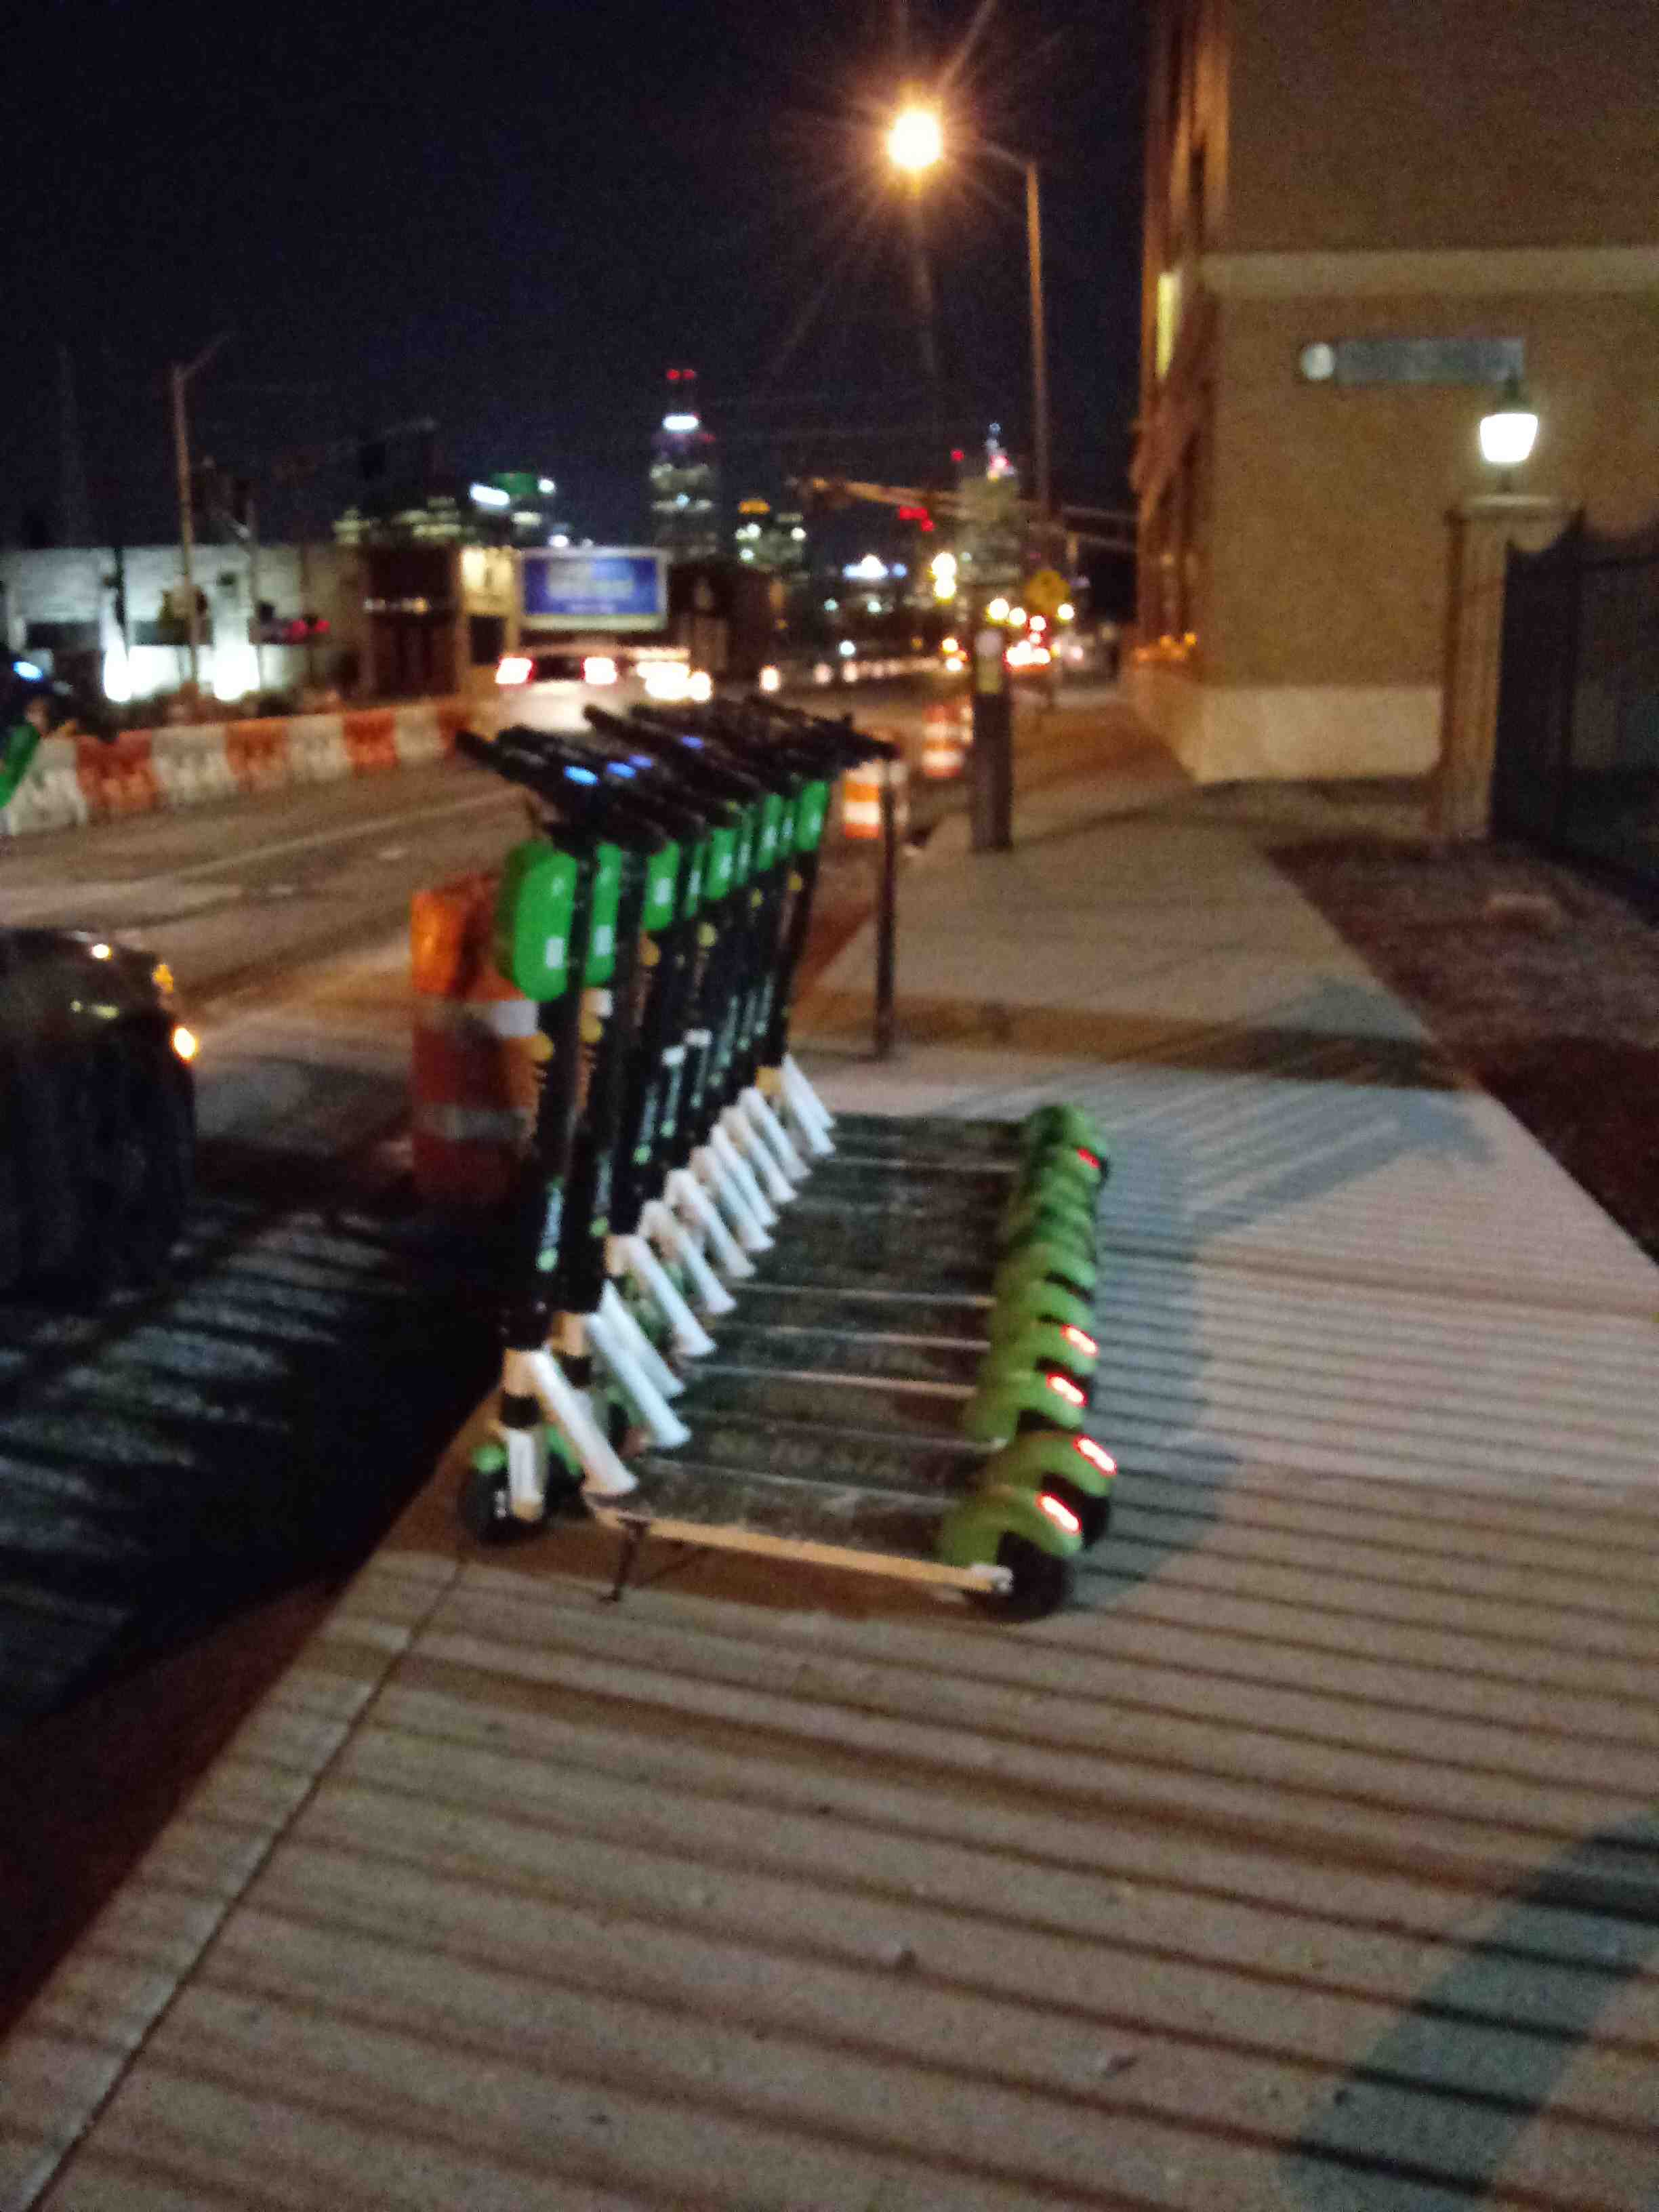too close: (389, 1397, 624, 1641)
